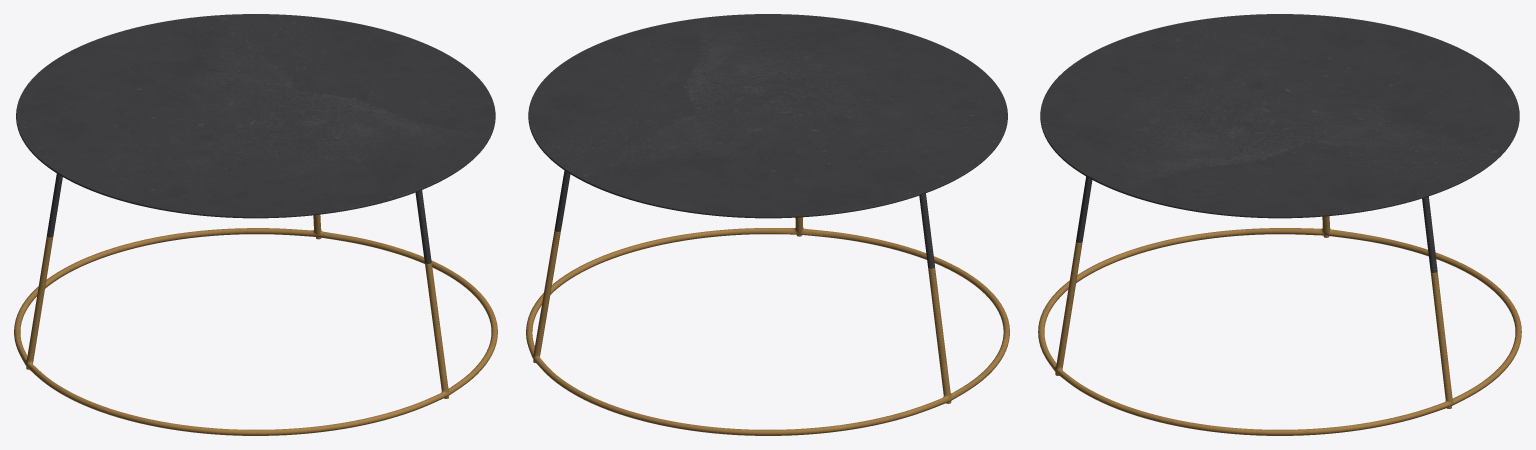
Rendered from CoffeeTableNimbusGoldReplica.obj.
3 views of the same model, side by side, from view 1: azimuth 30°, elevation 25°; view 2: azimuth 150°, elevation 25°; view 3: azimuth 270°, elevation 25° (orthographic).
Visible parts, largest first — view 1: CoffeeTableNimbusGoldReplica001; view 2: CoffeeTableNimbusGoldReplica001; view 3: CoffeeTableNimbusGoldReplica001.
Part boxes in pixels (x1=…): CoffeeTableNimbusGoldReplica001: x1=14, y1=14, x2=497, y2=435; CoffeeTableNimbusGoldReplica001: x1=526, y1=14, x2=1009, y2=435; CoffeeTableNimbusGoldReplica001: x1=1038, y1=14, x2=1521, y2=435.
Size of the model in its own units: 0.7184 by 0.3621 by 0.7183.
1 material, 1 textured.
